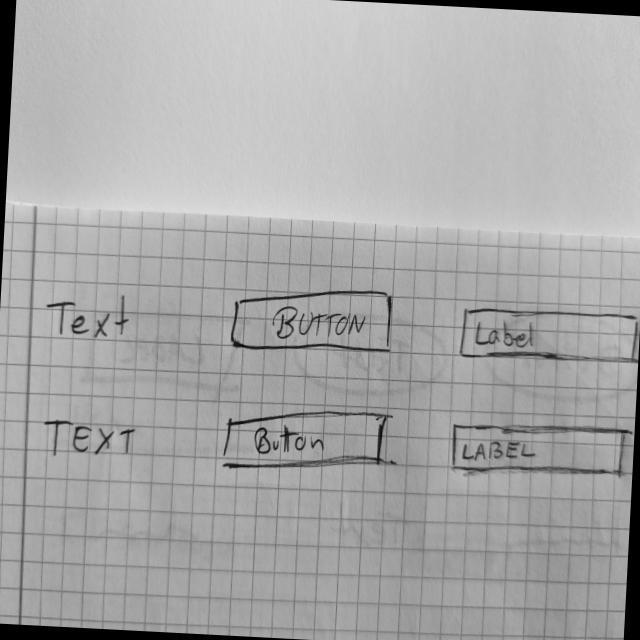button: (229, 280, 398, 362), (221, 402, 390, 482)
input: (455, 301, 640, 372), (446, 416, 630, 485)
label: (46, 288, 134, 346), (41, 418, 138, 466)
